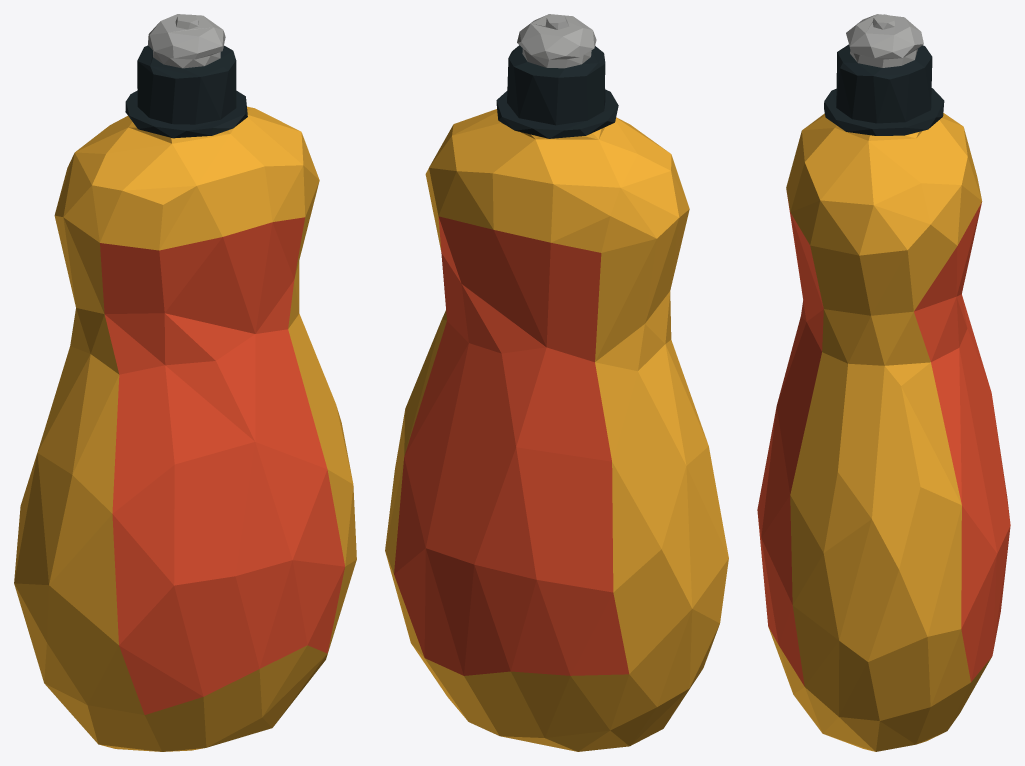
The model's file is DishwashingDetergent.fbx.
3 renders of one model, left to right at view 1: azimuth 30°, elevation 25°; view 2: azimuth 150°, elevation 25°; view 3: azimuth 270°, elevation 25°, orthographic.
Visible parts, largest first — view 1: DishwashingDetergentLowPoly; view 2: DishwashingDetergentLowPoly; view 3: DishwashingDetergentLowPoly.
Part boxes in pixels (x1=…): DishwashingDetergentLowPoly: x1=14, y1=14, x2=356, y2=751; DishwashingDetergentLowPoly: x1=385, y1=14, x2=728, y2=751; DishwashingDetergentLowPoly: x1=757, y1=14, x2=1010, y2=751.
Bounding box in the file's own units: 5.52 × 12.02 × 3.96.
